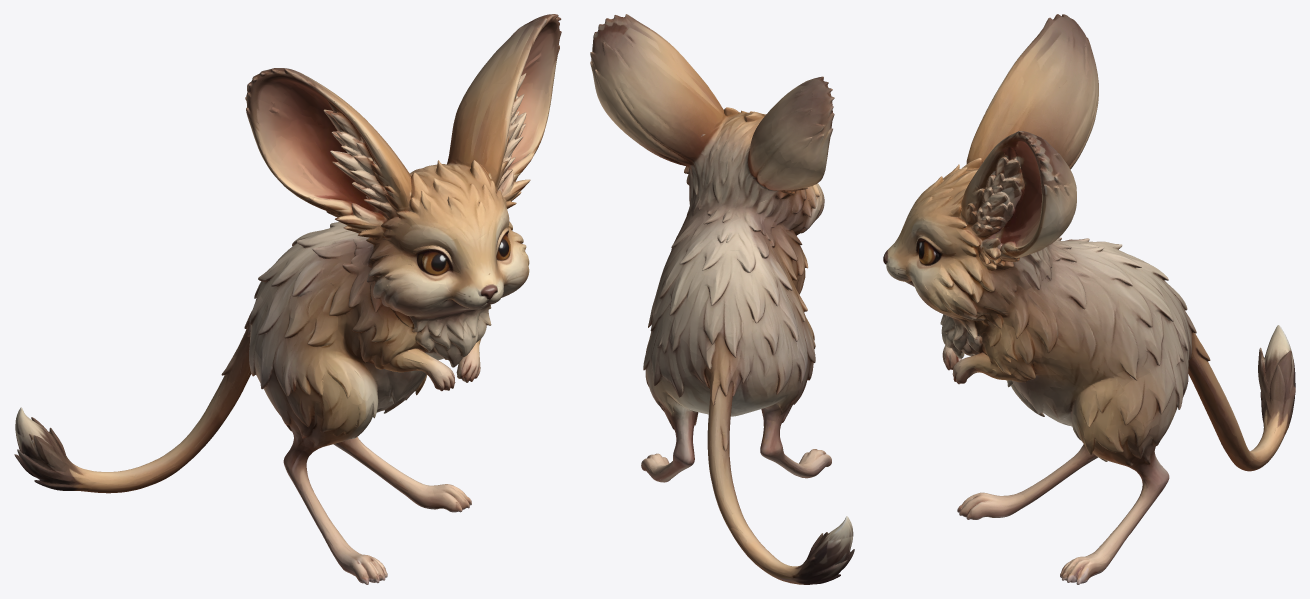
Rendered from kangaroo_mouse.glb.
3 renders of one model, left to right at view 1: azimuth 30°, elevation 25°; view 2: azimuth 150°, elevation 25°; view 3: azimuth 270°, elevation 25°, orthographic. The views are drawn at different scales.
Parts seen in each view (by area): view 1: output_unwrapped; view 2: output_unwrapped; view 3: output_unwrapped.
Boxes of the visible parts, x1,y1,x2,y2 form: output_unwrapped: [14, 14, 561, 584]; output_unwrapped: [590, 14, 854, 584]; output_unwrapped: [883, 14, 1295, 584].
Bounding box in the file's own units: 1.71 × 1.9 × 1.49.
1 material, 1 textured.
